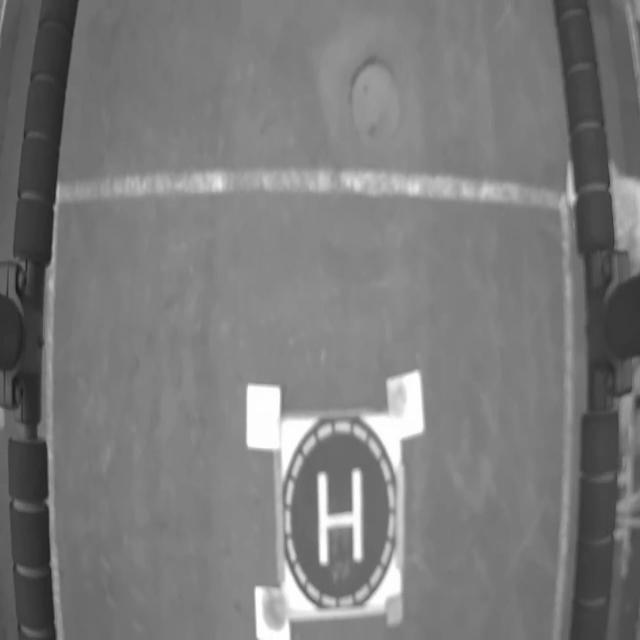Helipad: (317, 466, 363, 568)
